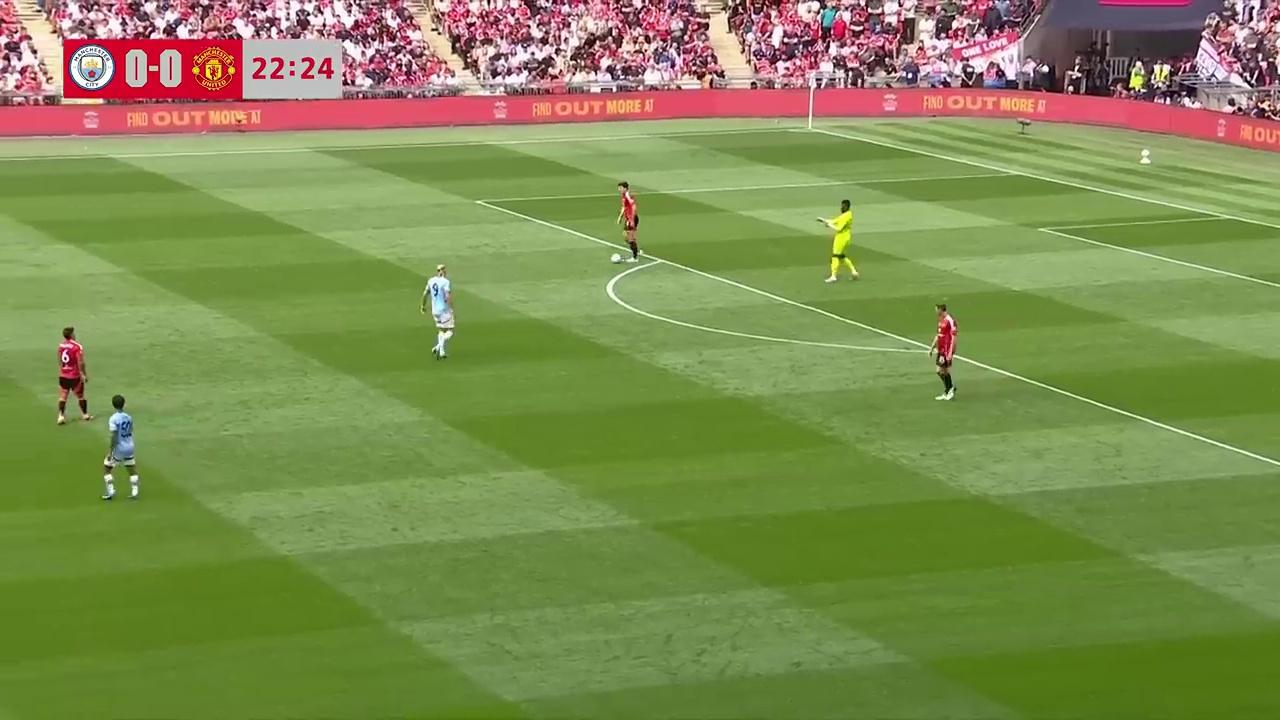ball: (610, 249, 621, 264)
player: (102, 393, 140, 501), (56, 325, 90, 426), (423, 259, 455, 359), (822, 199, 859, 282), (930, 316, 957, 400), (616, 181, 641, 268), (930, 303, 958, 370)
